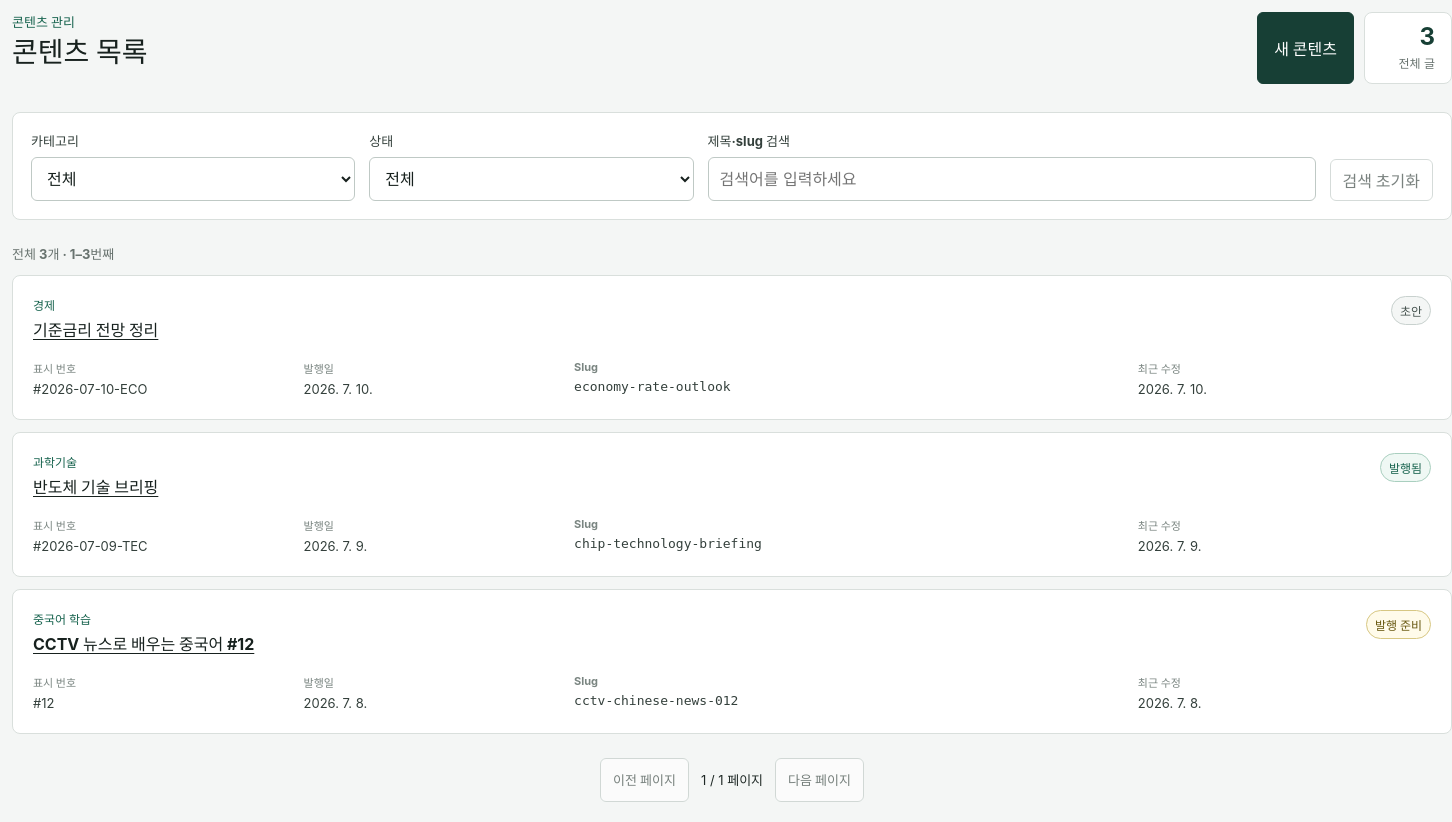
Test: ContentPage › clears the search and restores the list
Expected: the heading "기준금리 전망 정리" is shown, [33,318,158,342]
Type "CCTV" into the search field labelled "제목·slug 검색" at (1012,179), box [708,157,1316,201]
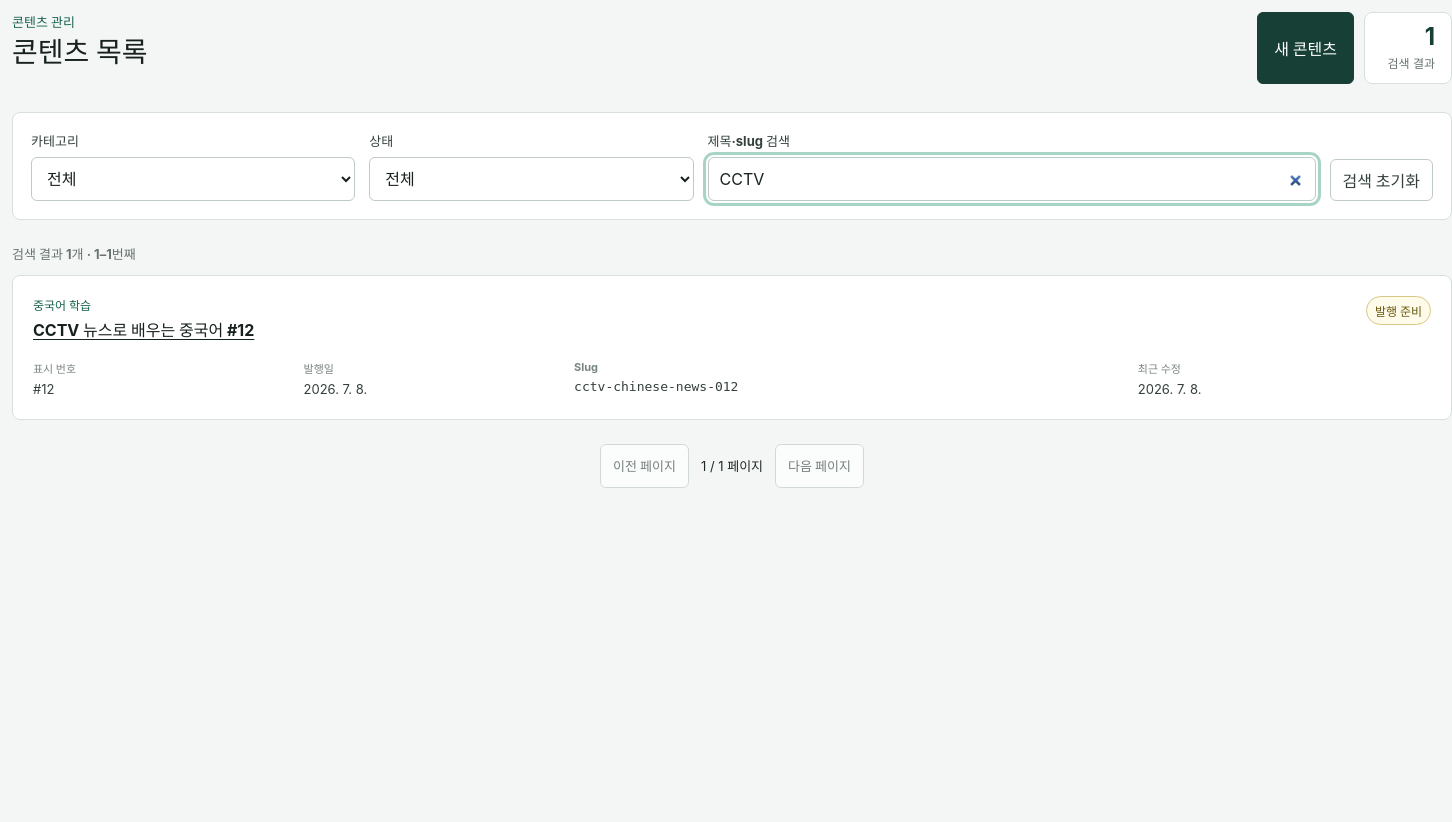
Click the button "검색 초기화" at (1381,180), box [1330,159,1433,201]
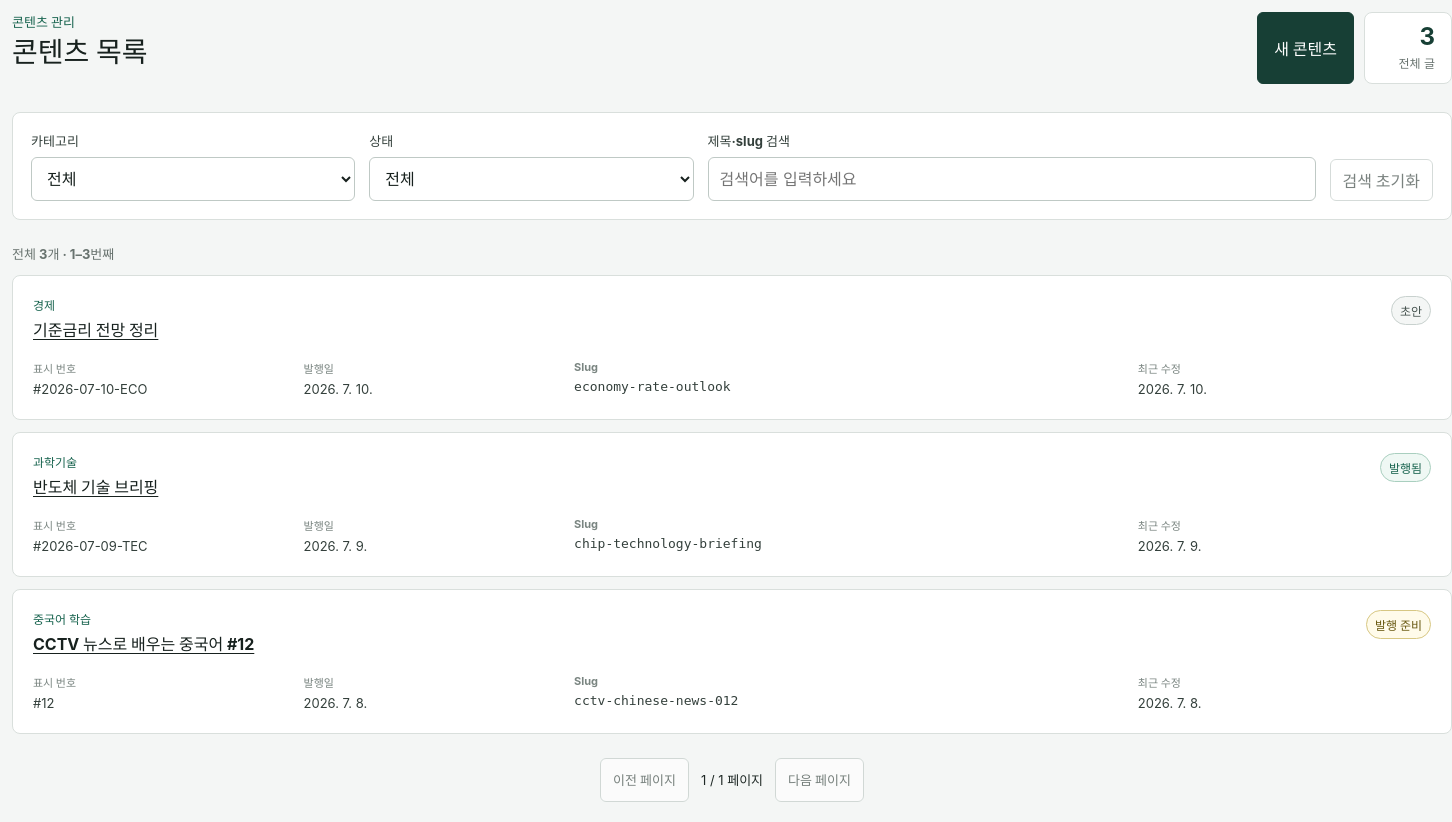
Result: the search field labelled "제목·slug 검색" is empty at [708,157,1316,201]
Result: the heading "기준금리 전망 정리" is shown at [33,318,158,342]
Result: the heading "반도체 기술 브리핑" is shown at [33,475,158,499]
